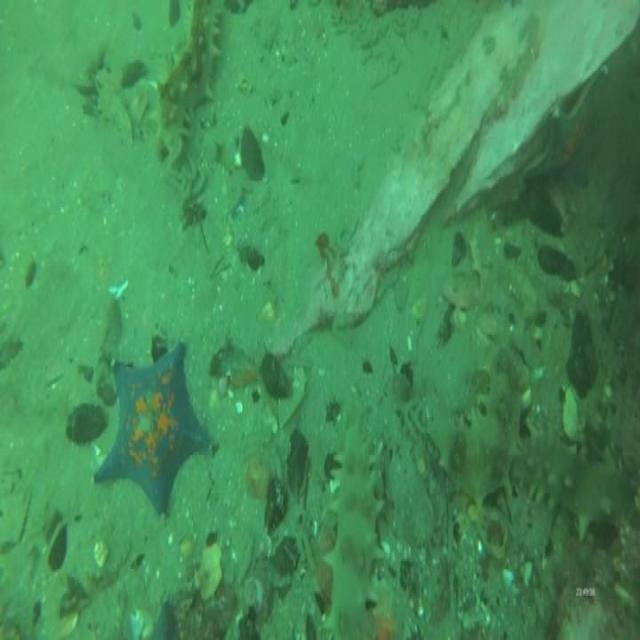holothurian: (424, 335, 529, 512), (519, 412, 633, 542), (325, 419, 387, 640), (153, 0, 221, 172)
starfish: (90, 335, 214, 521), (516, 60, 612, 188)
